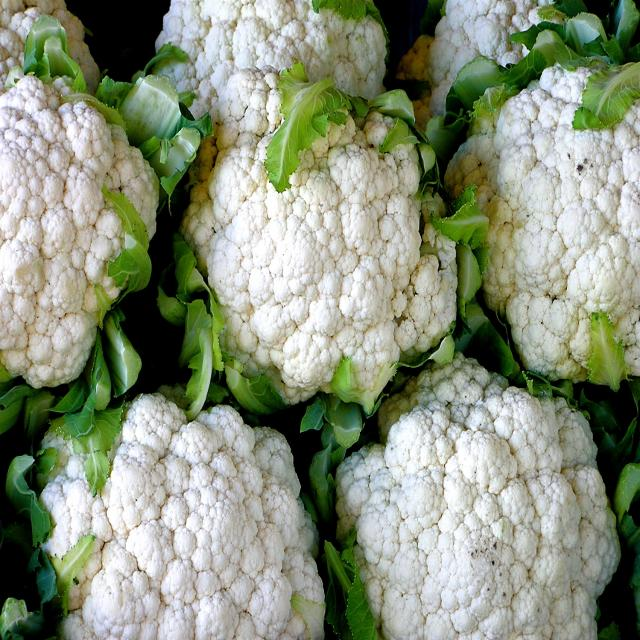Cauliflower head: (170, 101, 467, 418), (35, 388, 346, 640), (367, 369, 634, 640), (487, 40, 633, 383), (0, 81, 157, 382)
